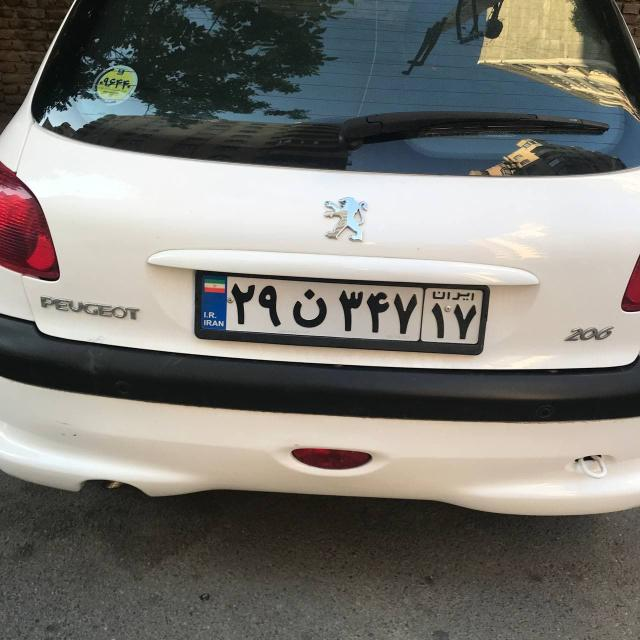Plates: (199, 274, 484, 347)
